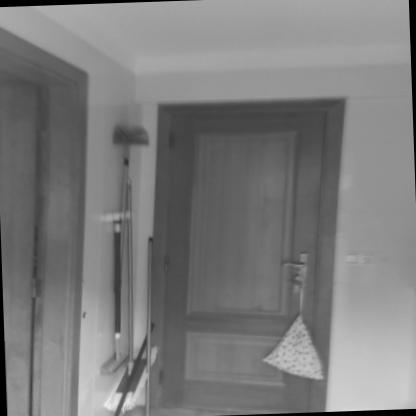closed: (153, 87, 352, 416), (0, 56, 112, 416)
